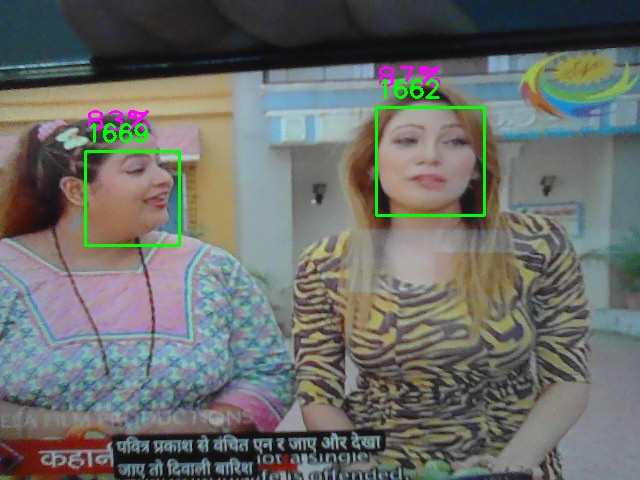fake: (376, 107, 485, 216), (85, 151, 180, 246)
